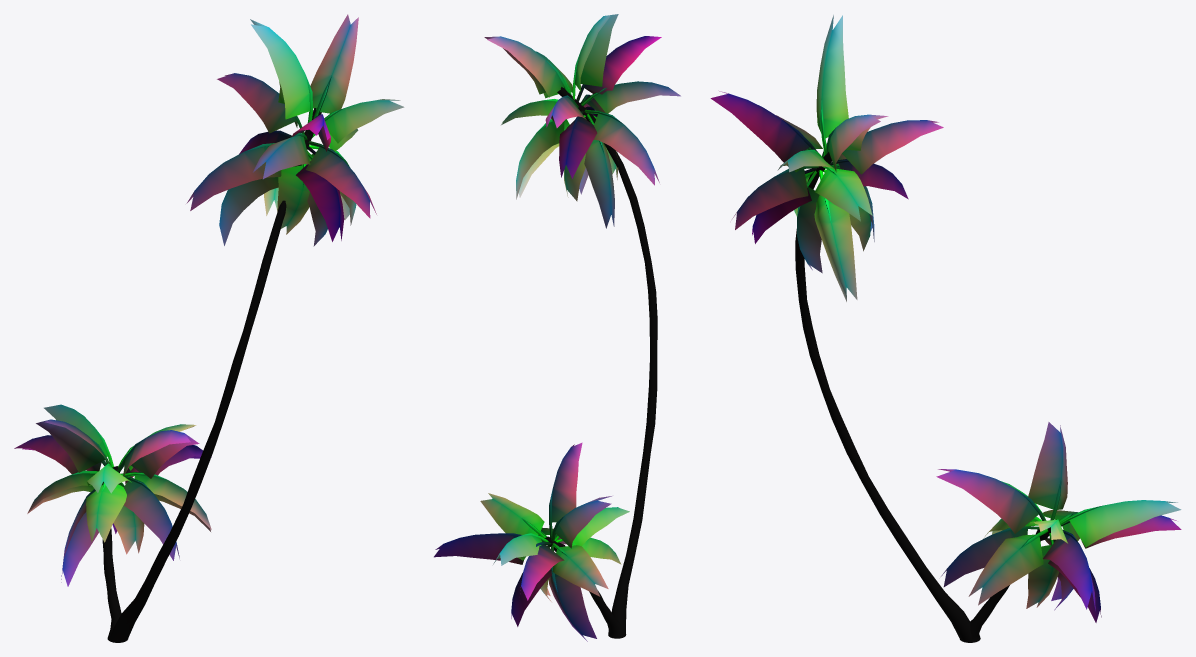
The model's file is M_Palm_1_8.fbx.
3 renders of one model, left to right at view 1: azimuth 30°, elevation 25°; view 2: azimuth 150°, elevation 25°; view 3: azimuth 270°, elevation 25°, orthographic. The views are drawn at different scales.
Visible parts, largest first — view 1: Palm_1_8; view 2: Palm_1_8; view 3: Palm_1_8.
Boxes of the visible parts, x1,y1,x2,y2 form: Palm_1_8: (14,14,404,642); Palm_1_8: (434,14,680,641); Palm_1_8: (710,15,1181,642).
Bounding box in the file's own units: 636 × 1660 × 1079.
